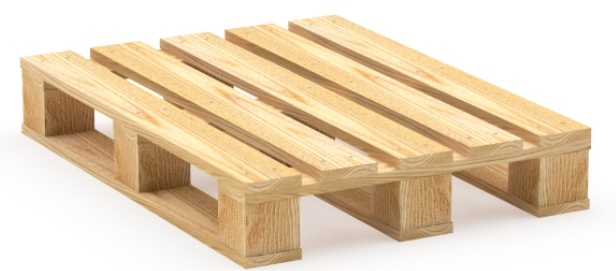block: (239, 179, 306, 269), (534, 134, 595, 218), (394, 166, 459, 242)
front: (303, 131, 588, 240)
hole pallet: (315, 161, 483, 241)
